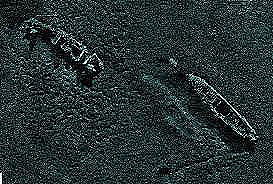ship: (185, 73, 260, 147), (20, 18, 105, 74)
